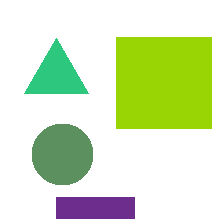circle: (32, 124, 92, 184)
rectangle: (116, 37, 211, 128), (56, 197, 134, 218)
triangle: (24, 38, 88, 93)
